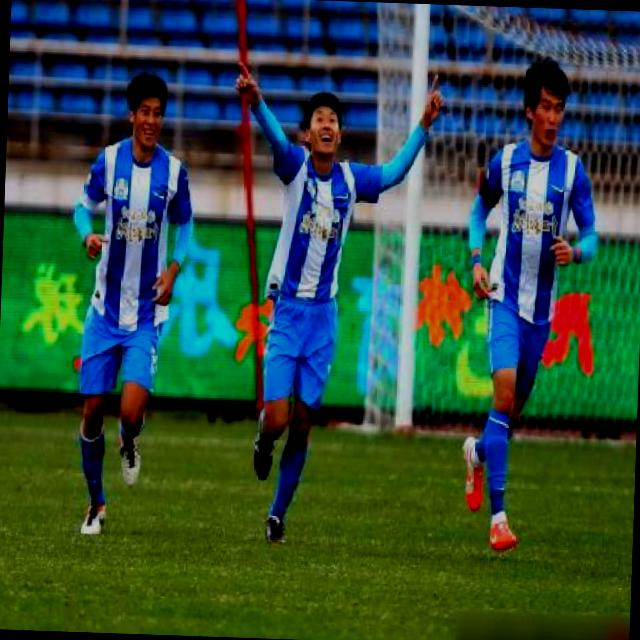Person: (197, 11, 451, 582), (44, 33, 222, 572), (446, 58, 608, 564)
